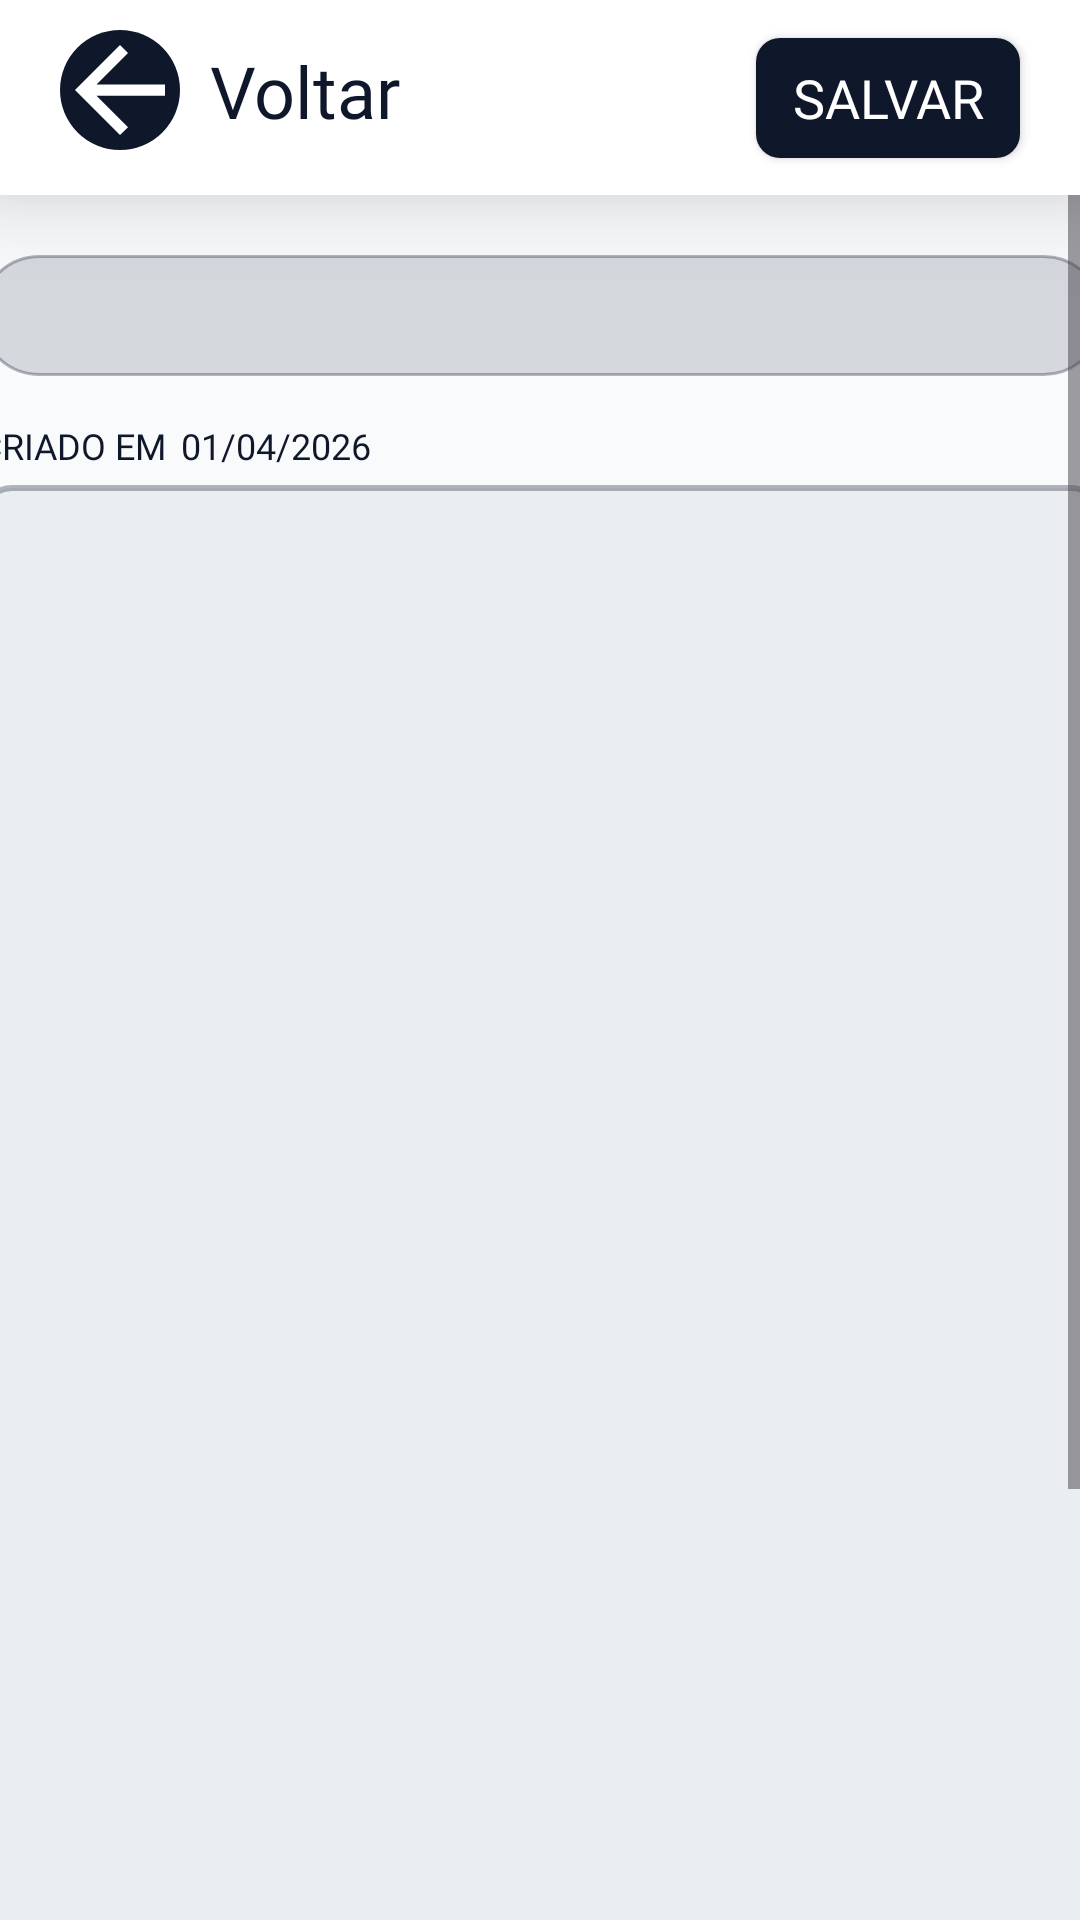

Point at icon controls on the screen. Image size 1080x1920, points as (x=x, y=y).
seta: (x=120, y=90)
